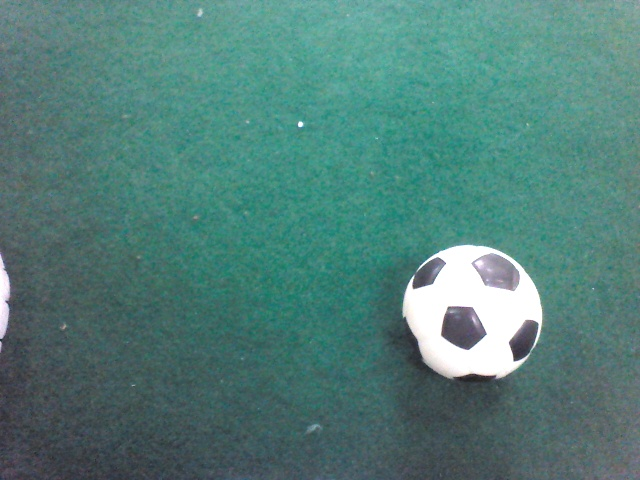ball: (401, 244, 545, 384)
